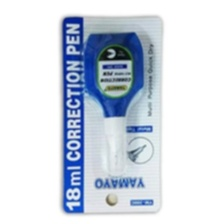book: (59, 12, 162, 214)
correction_fluid: (81, 29, 147, 177)
